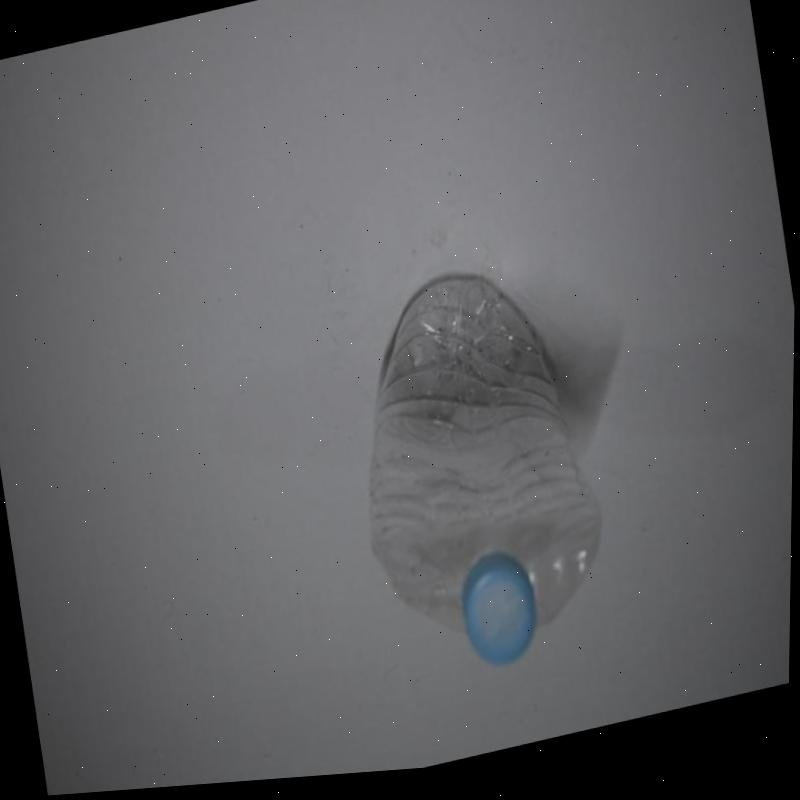botella: (331, 256, 625, 699)
